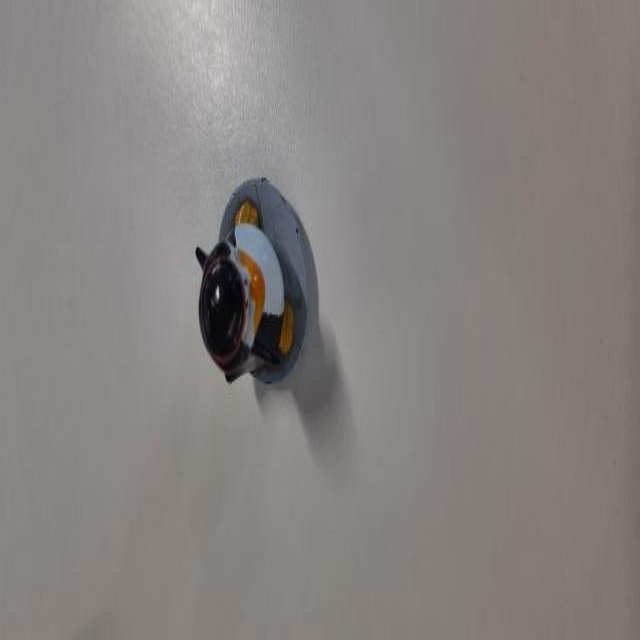Penguin: (189, 150, 323, 410)
